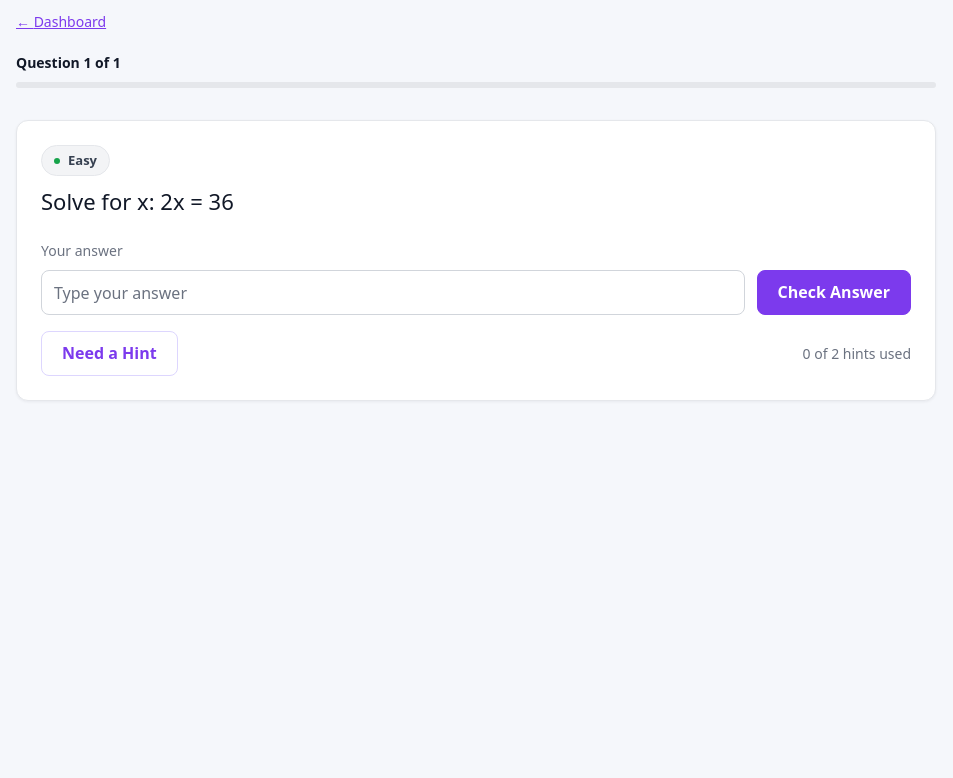
Test: SessionQuestionPage - reveal solution advancement (M1) › reveals the solution via the server, then Next Question shows the actual next question with reset state
Expected: the text "Solve for x: 2x = 36" is shown, [41,186,234,216]
# Exhaust both hints - this question has exactly 2.
Click the button "Need a Hint" at (109, 354), box [41,331,178,376]
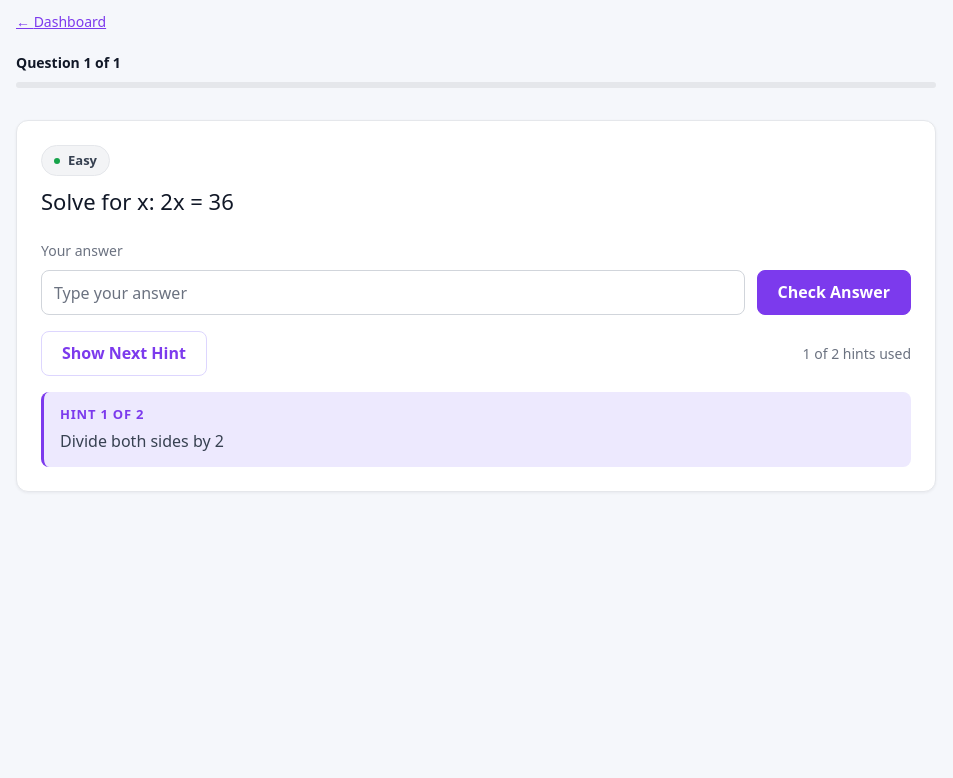
Click the button "Show Next Hint" at (124, 354), box [41,331,207,376]
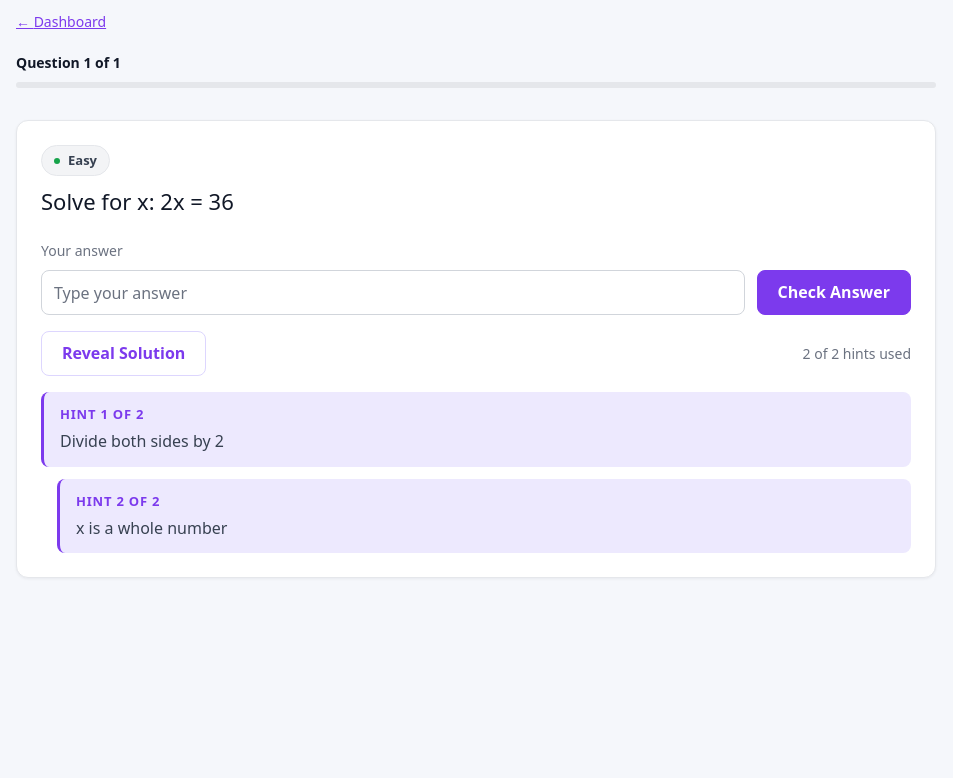
Now the button "Reveal Solution" is shown
Click the button "Reveal Solution" at (124, 354), box [41,331,206,376]
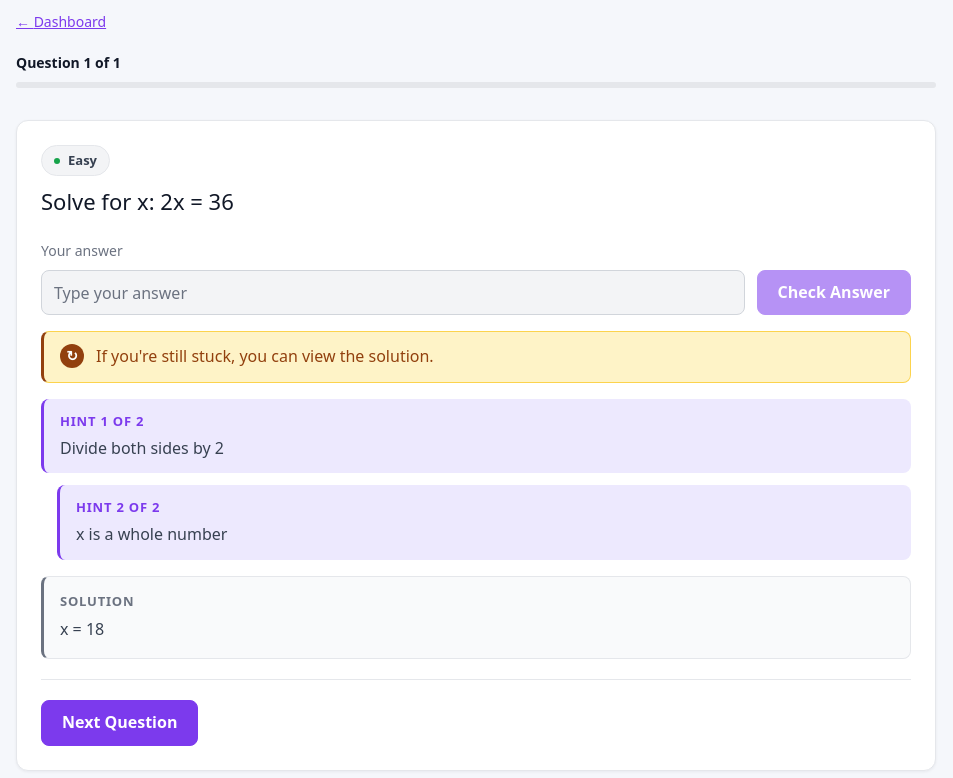
Now the text "x = 18" is shown, box [60,618,104,640]
Now the text "If you're still stuck, you can view the solution." is shown, box [96,344,434,370]
Click the button "Next Question" at (120, 723), box [41,700,198,746]
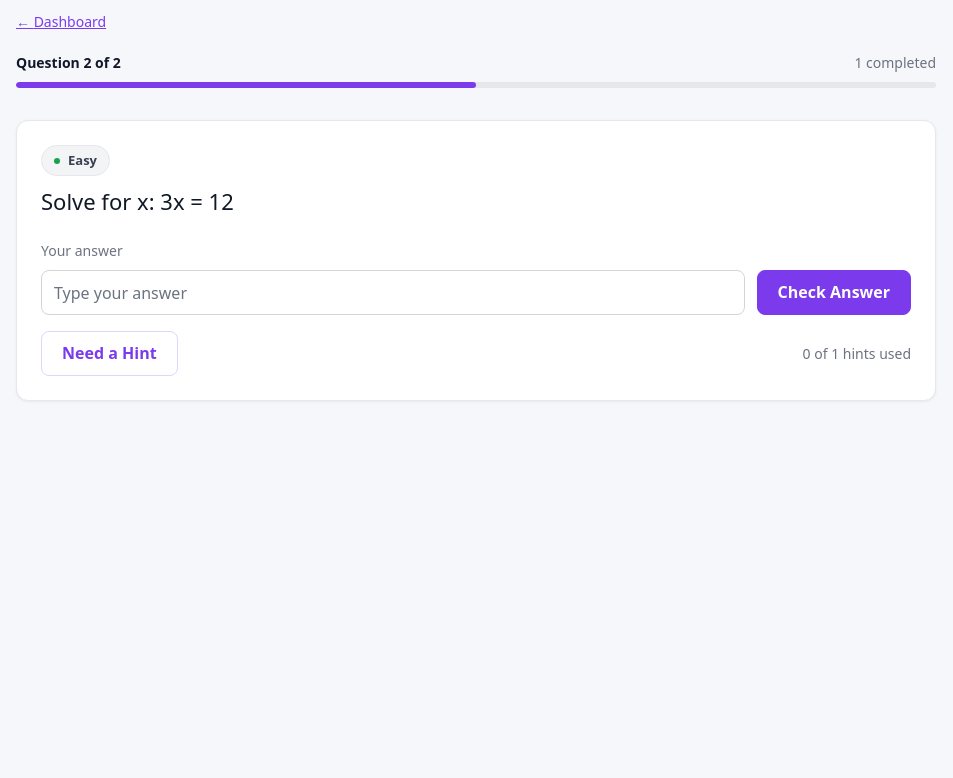
Now the text "Solve for x: 3x = 12" is shown, box [41,186,234,216]
Now the text "Solve for x: 2x = 36" is gone
Now the text "x = 18" is gone
